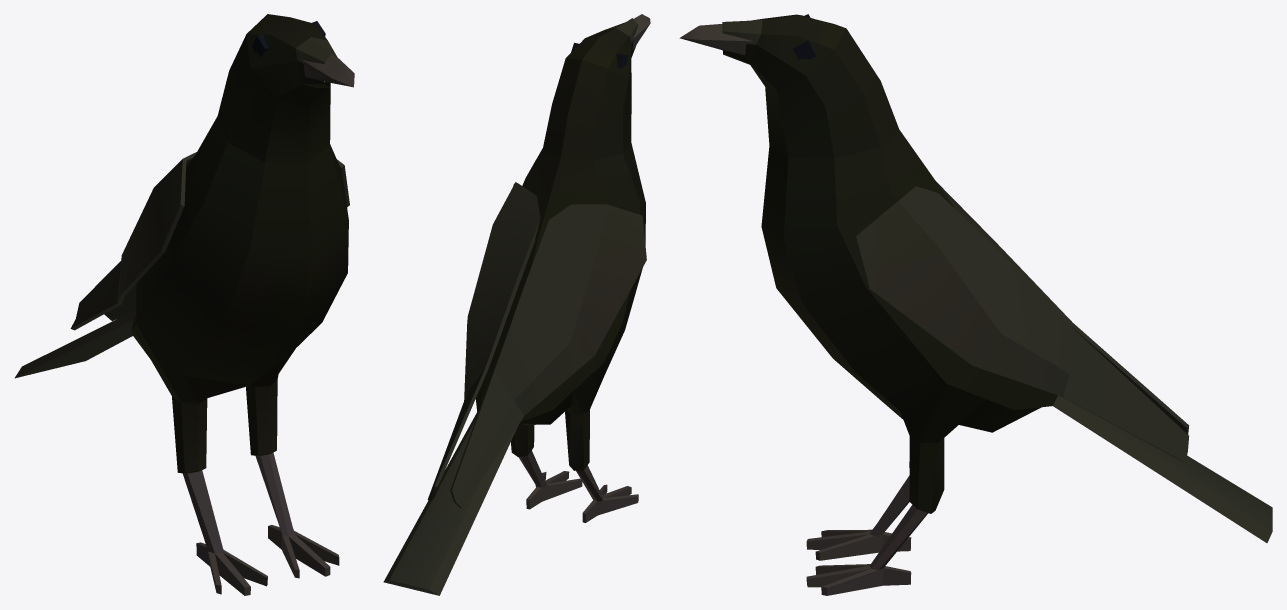
The model's file is animals-crow-061.glb.
The picture shows the model from 3 angles, left to right: view 1: azimuth 30°, elevation 25°; view 2: azimuth 150°, elevation 25°; view 3: azimuth 270°, elevation 25°; orthographic projection. The views are drawn at different scales.
Parts seen in each view (by area): view 1: Geo_Crow; view 2: Geo_Crow; view 3: Geo_Crow.
Boxes of the visible parts, bbox=[...] form: Geo_Crow: bbox=[15, 14, 354, 595]; Geo_Crow: bbox=[383, 14, 650, 595]; Geo_Crow: bbox=[679, 14, 1272, 595].
Bounding box in the file's own units: 17.36 × 50.08 × 48.78.
1 material, 1 textured.
